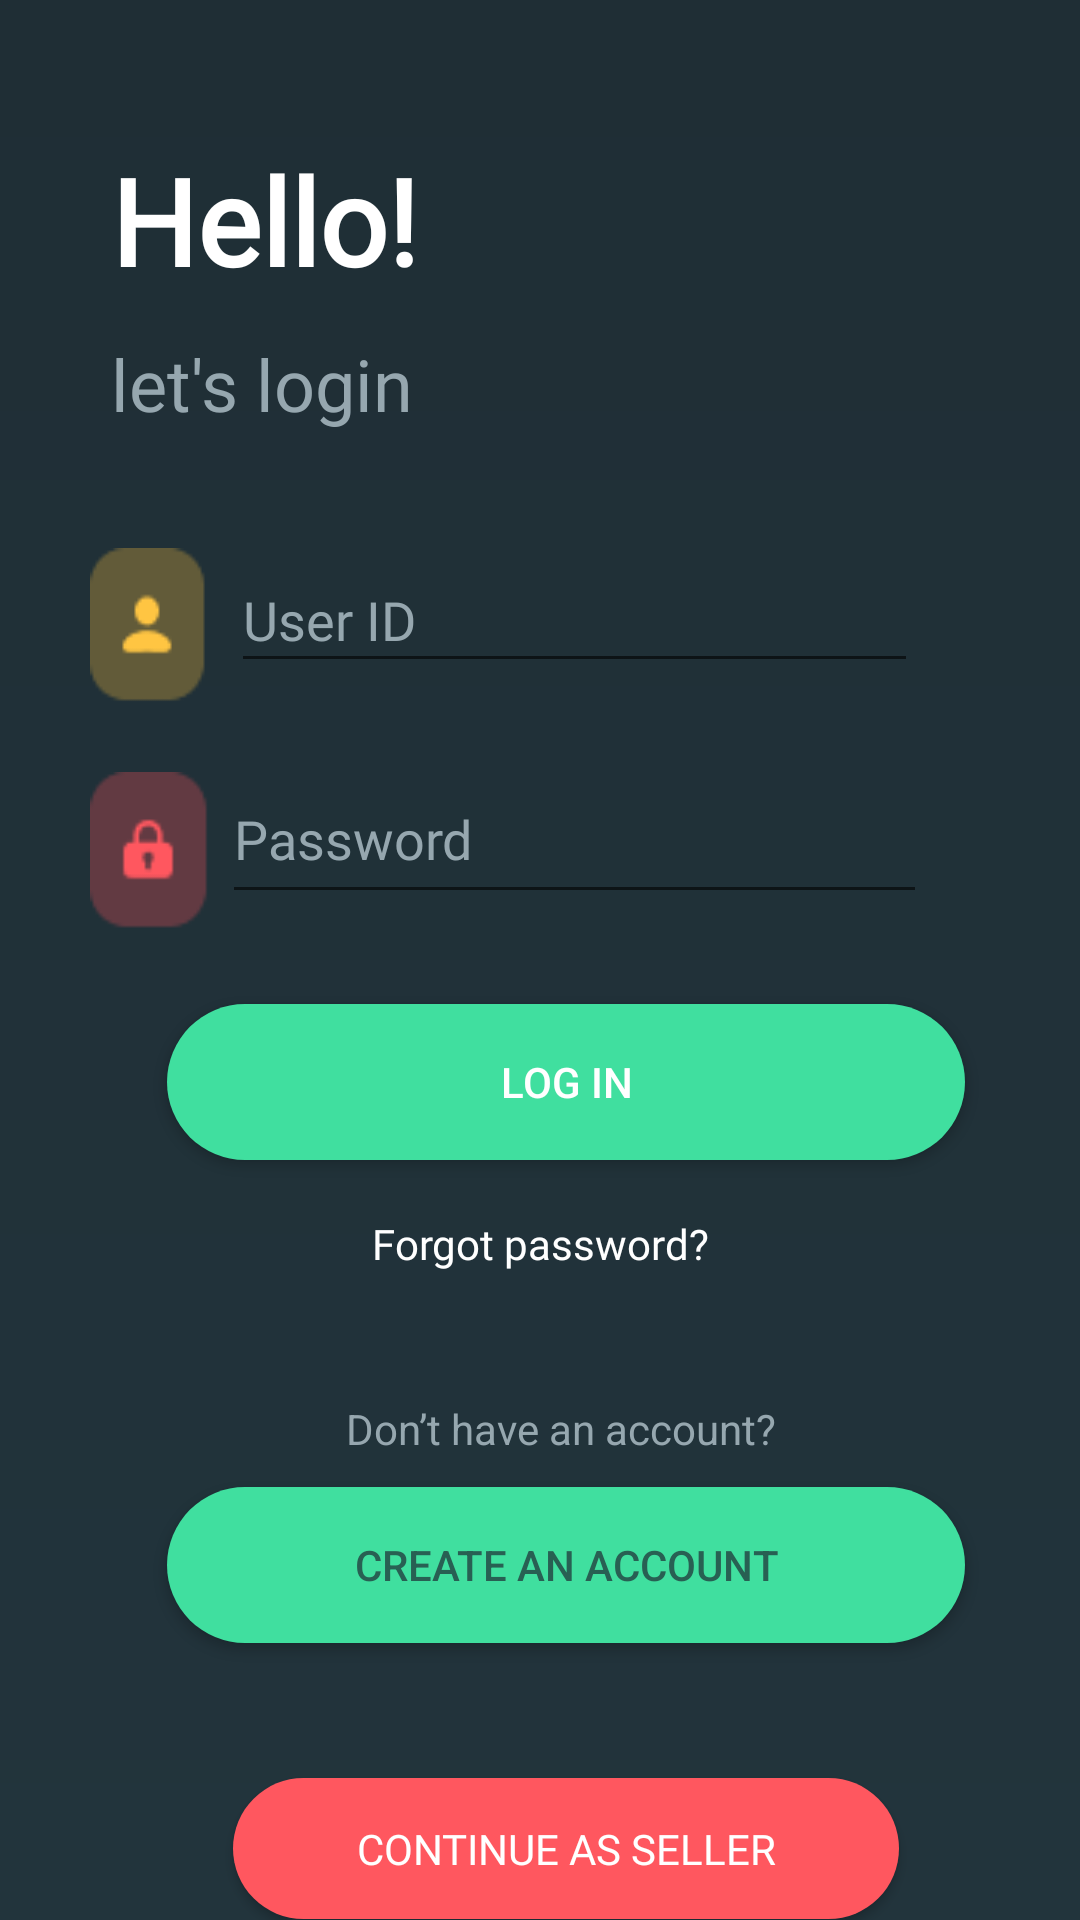

Where icons sit on this 1080x1920 app screen, as (x1, y1, x2, y2):
nam: (90, 548, 204, 700)
